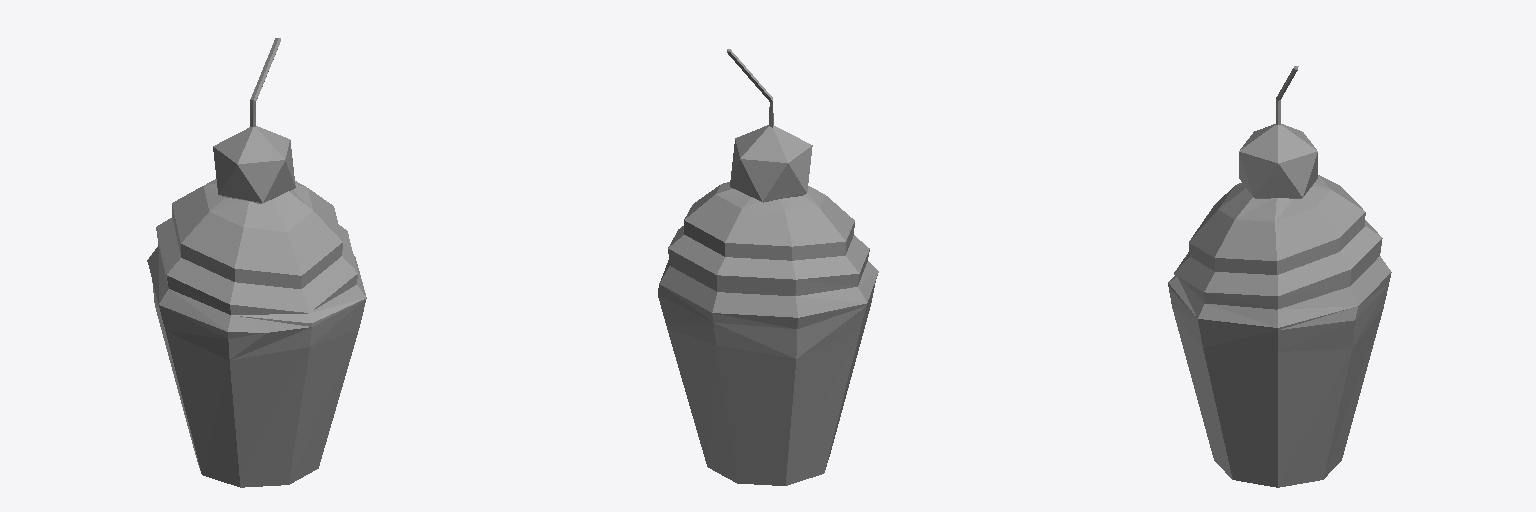
The model's file is CupcakeCherry.obj.
The picture shows the model from 3 angles: view 1: azimuth 30°, elevation 25°; view 2: azimuth 150°, elevation 25°; view 3: azimuth 270°, elevation 25°; orthographic projection.
Parts seen in each view (by area): view 1: Cupcake_Cylinder.005; view 2: Cupcake_Cylinder.005; view 3: Cupcake_Cylinder.005.
Part boxes in pixels (x1,y1,x2,y2): Cupcake_Cylinder.005: (147,38,366,487); Cupcake_Cylinder.005: (658,49,878,485); Cupcake_Cylinder.005: (1168,66,1391,487).
Size of the model in its own units: 0.6356 by 1.26 by 0.6243.